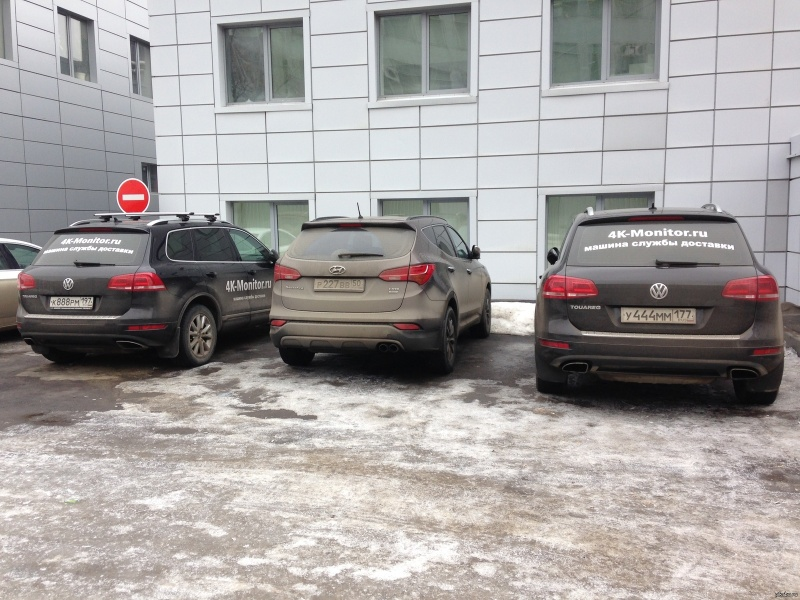car: (534, 204, 784, 408), (16, 212, 278, 363), (269, 215, 493, 368), (1, 239, 42, 332)
plate: (621, 306, 696, 323), (314, 278, 364, 288), (50, 297, 92, 306)
